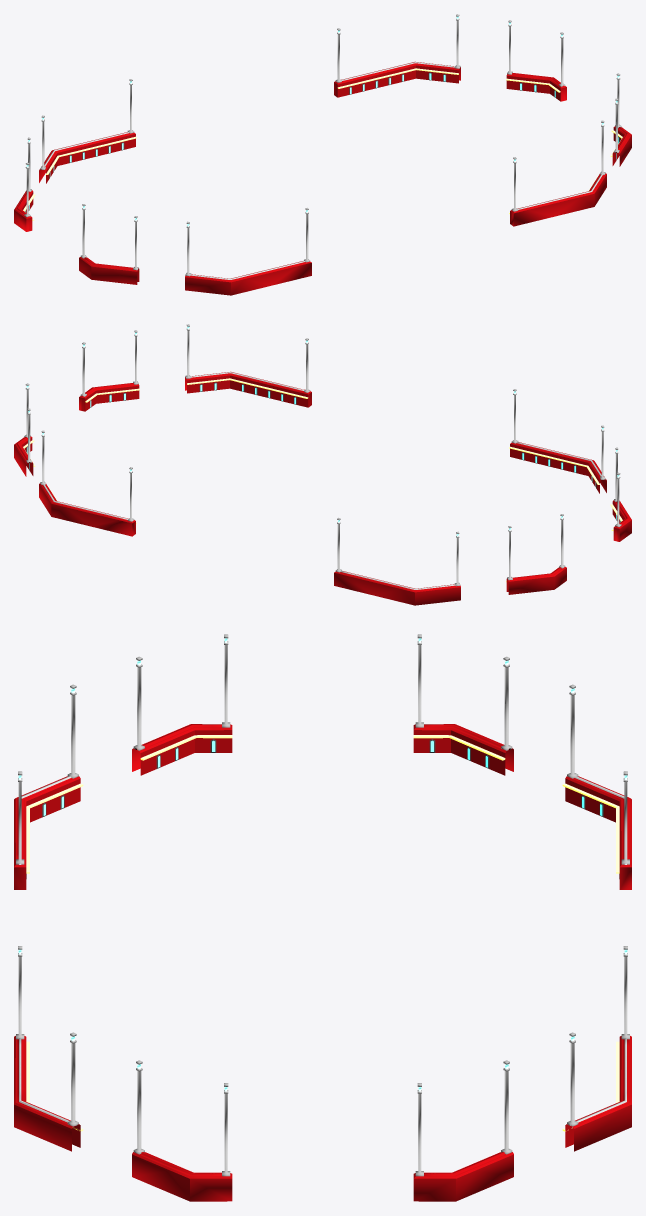
The model's file is PH_mesh_SpaceShip_Walls.fbx.
3 views of the same model, one above another, from view 1: azimuth 30°, elevation 25°; view 2: azimuth 150°, elevation 25°; view 3: azimuth 270°, elevation 25° (orthographic). The views are drawn at different scales.
Parts seen in each view (by area): view 1: mesh_wallSetup.003, Lights.002, Lights.004, Lights.003; view 2: mesh_wallSetup.003, Lights.002, Lights.004, Lights.003; view 3: mesh_wallSetup.003, Lights.002, Lights.003, Lights.004.
Boxes of the visible parts, x1,y1,x2,y2 form: mesh_wallSetup.003: (14, 61, 631, 295); Lights.002: (40, 14, 605, 276); Lights.004: (24, 32, 621, 258); Lights.003: (26, 20, 619, 270); mesh_wallSetup.003: (14, 371, 631, 605); Lights.002: (40, 324, 605, 586); Lights.004: (24, 342, 621, 568); Lights.003: (26, 330, 619, 580); mesh_wallSetup.003: (14, 724, 631, 1201); Lights.002: (67, 684, 578, 1126); Lights.003: (133, 656, 512, 1154); Lights.004: (222, 634, 423, 1176).
Size of the model in its own units: 58.79 by 6.95 by 33.83.
